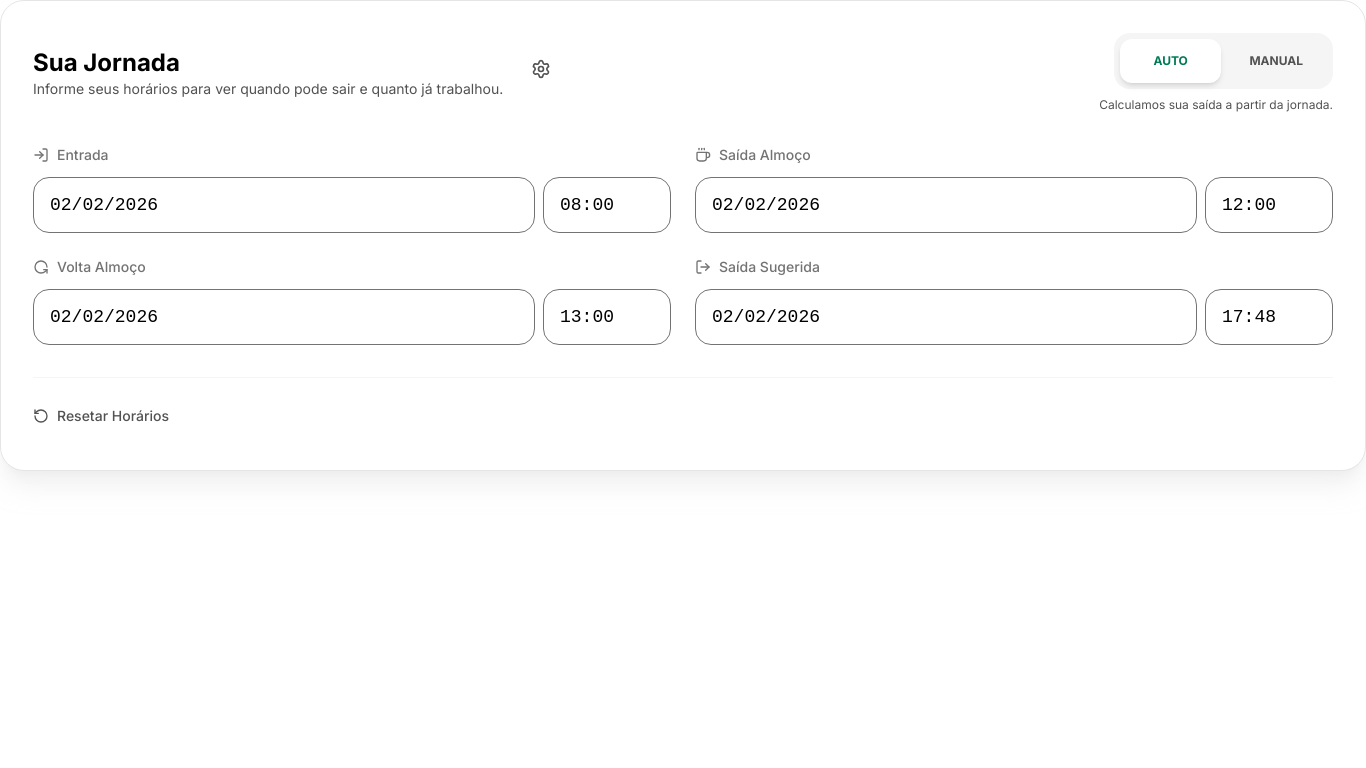
Test: JourneyForm › keeps the settings panel collapsed until requested
The width and height of the screenshot is (1366, 768).
Check: the field labelled "Tempo de Trabalho Diário" is not shown
Click the button named "Configurações da Jornada": (541, 69) [519,47,563,91]
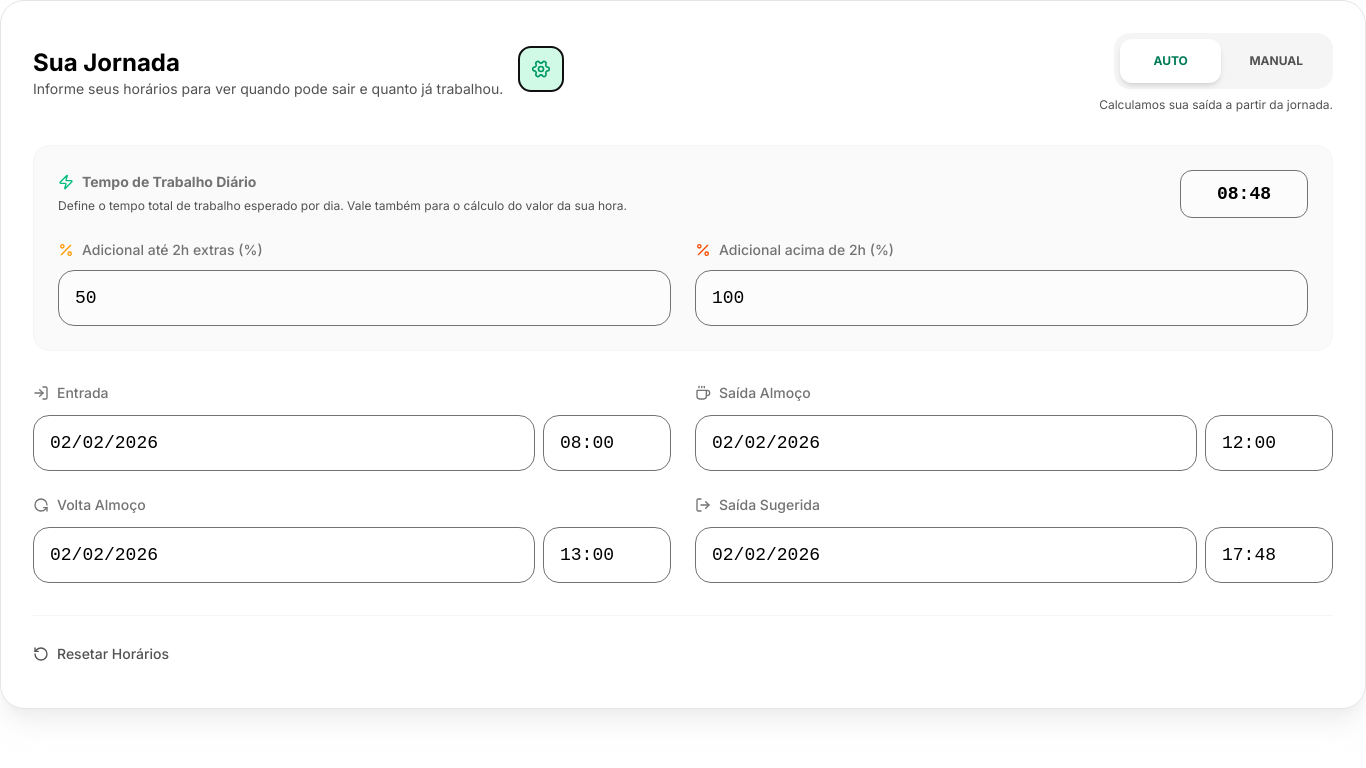
Check: the button named "Configurações da Jornada" is expanded, box [519,47,563,91]
Check: the field labelled "Tempo de Trabalho Diário" is shown, box [1180,170,1308,218]
